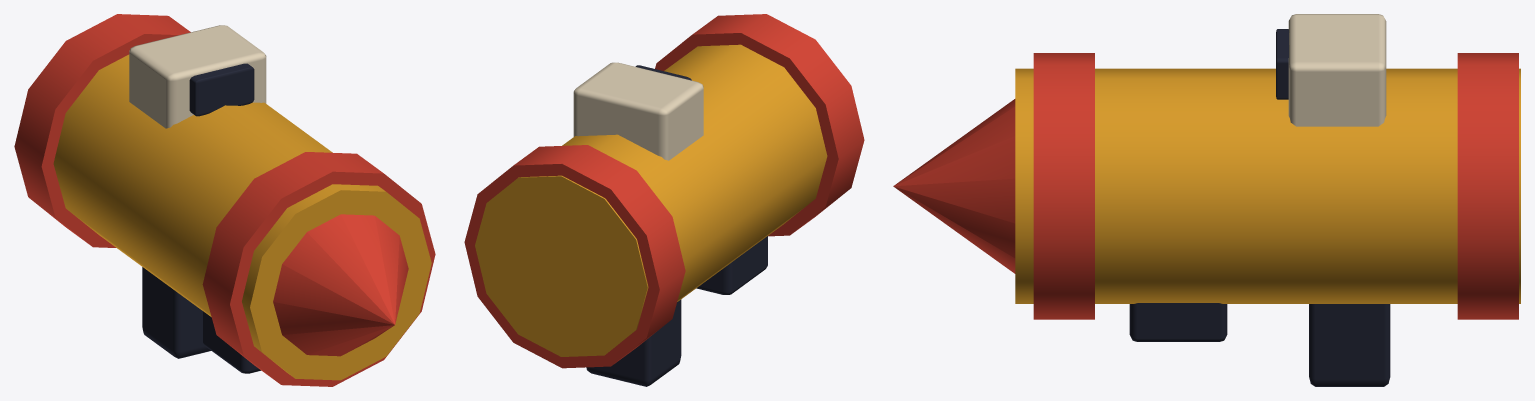
The model's file is rocket-held.glb.
The picture shows the model from 3 angles, left to right: view 1: azimuth 30°, elevation 25°; view 2: azimuth 150°, elevation 25°; view 3: azimuth 270°, elevation 25°; orthographic projection. The views are drawn at different scales.
Parts seen in each view (by area): view 1: launcher_held; view 2: launcher_held; view 3: launcher_held.
Part boxes in pixels (left/top/right/bottom): launcher_held: left=14, top=14, right=435, bottom=386; launcher_held: left=464, top=14, right=864, bottom=386; launcher_held: left=893, top=14, right=1520, bottom=386.
Size of the model in its own units: 0.328 by 0.45 by 0.77.
